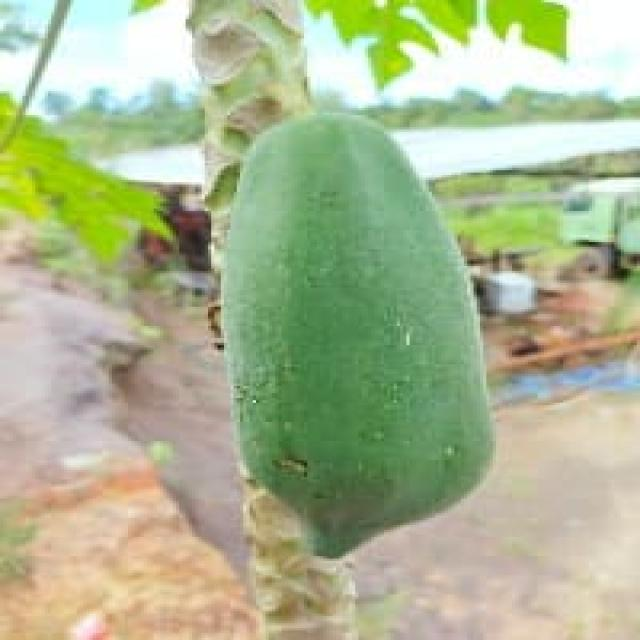Pepaya: (221, 108, 499, 558)
